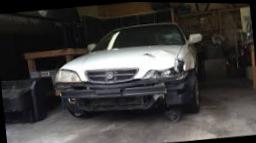Bonnet: (129, 43, 179, 69)
Bumper: (55, 75, 186, 115)
Fender: (177, 43, 197, 69)
Light: (141, 56, 187, 79)
Windshield: (145, 22, 184, 42)
